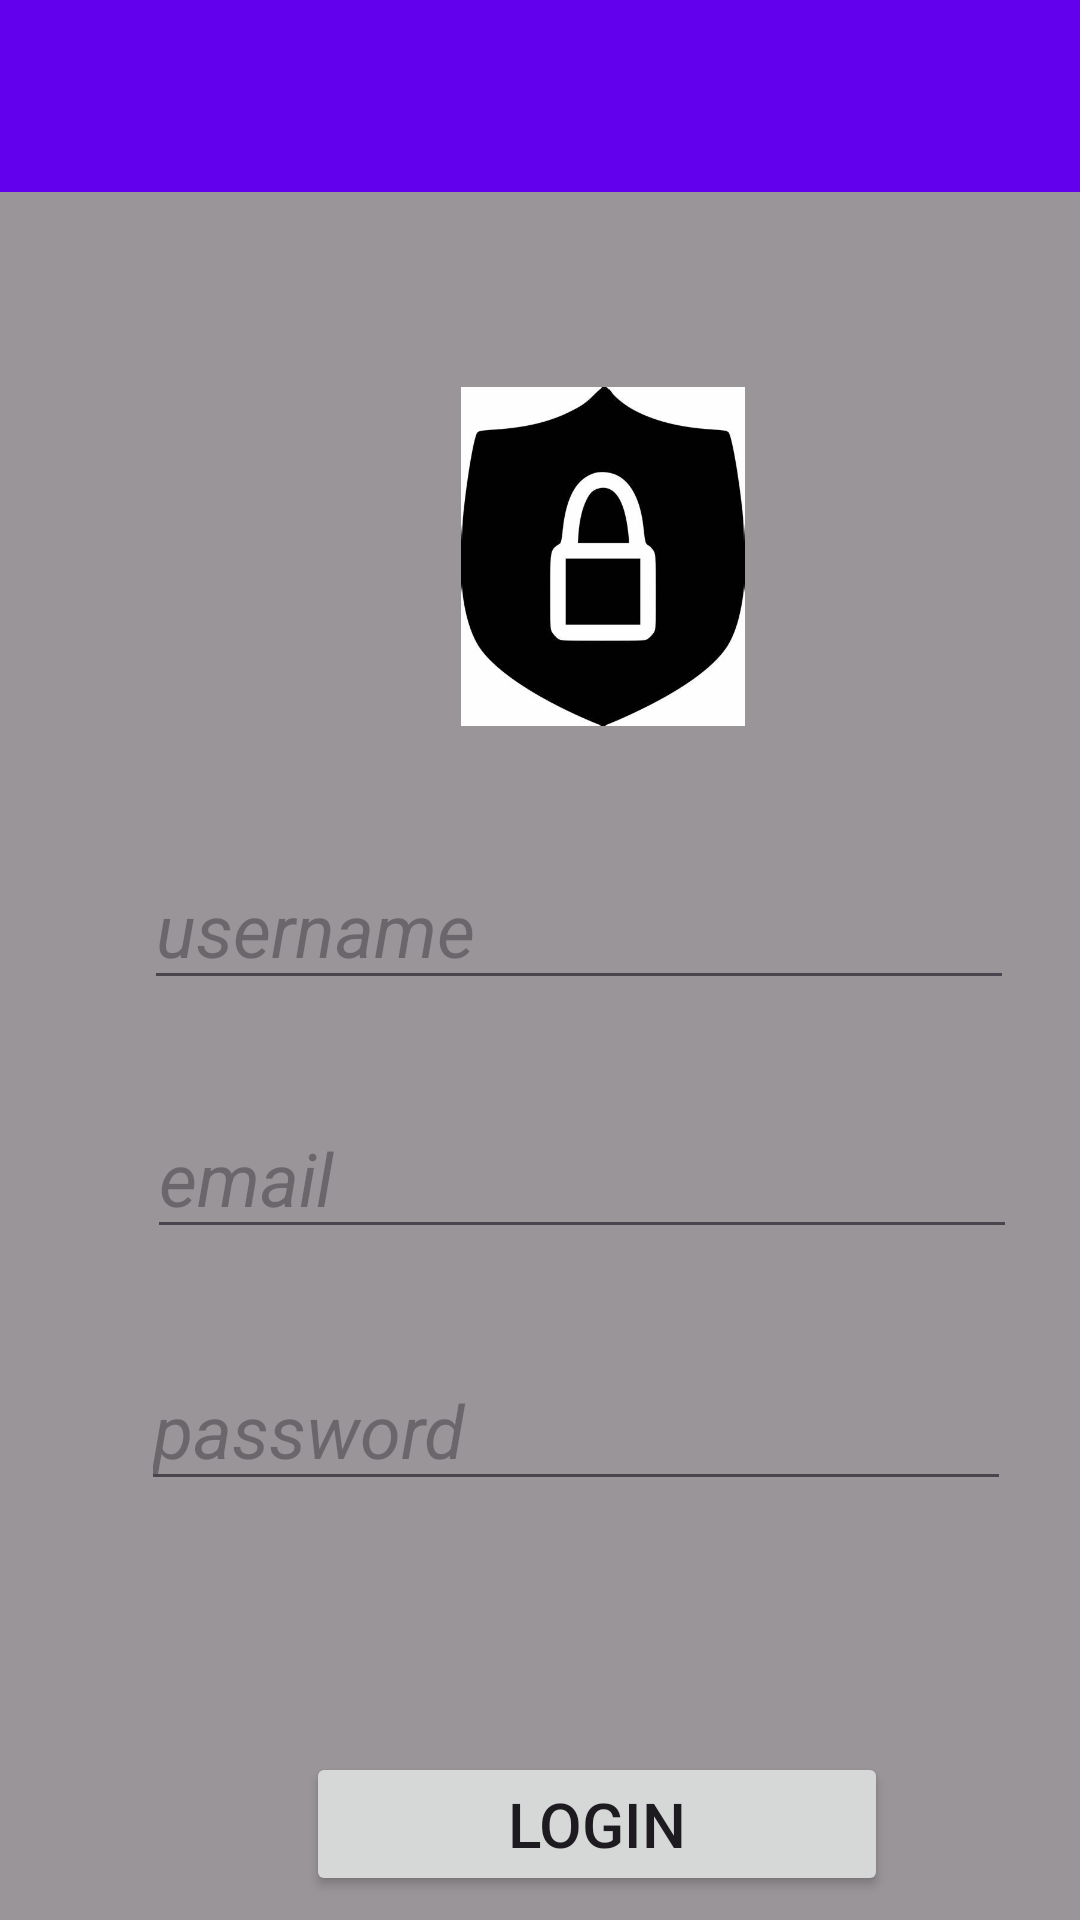

Point at icon controls on the screen. Image size 1080x1920, points as point (x, y).
lockimage: point (603, 556)
